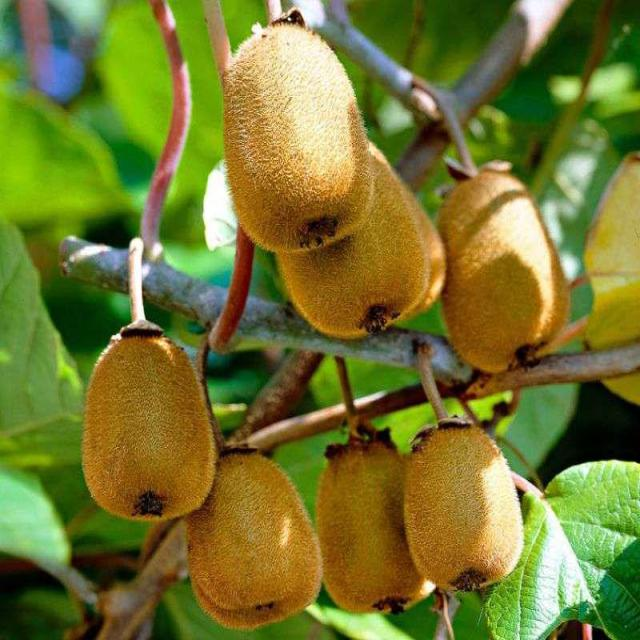kiwi: (217, 16, 380, 259), (275, 127, 430, 354), (427, 157, 578, 376), (80, 321, 218, 536), (183, 443, 331, 628), (317, 428, 443, 614), (401, 418, 530, 589)
